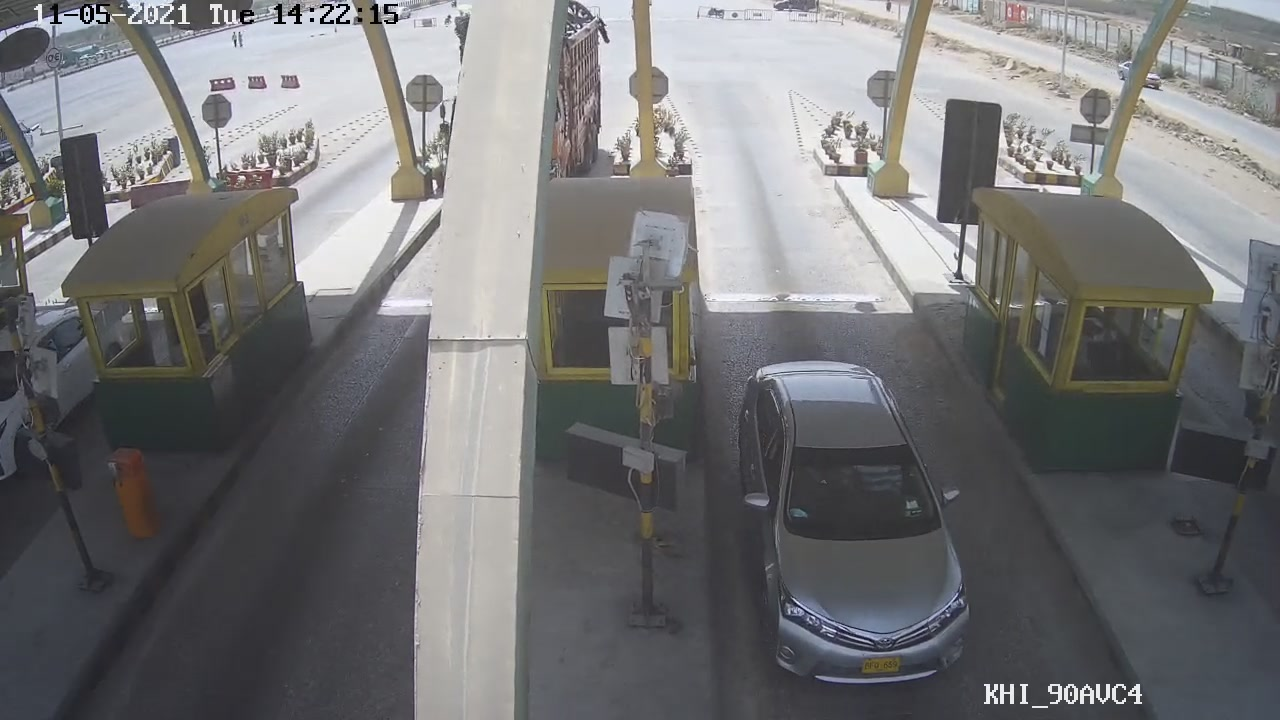F1: (734, 356, 974, 693)
